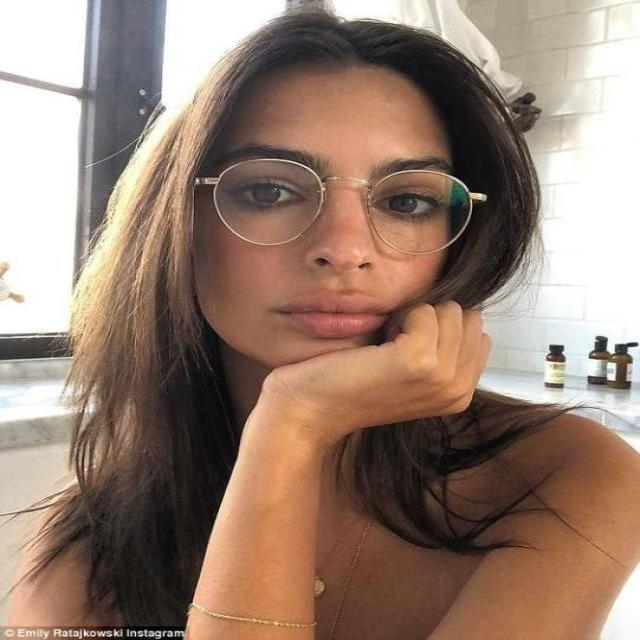glasses: (194, 156, 483, 258)
